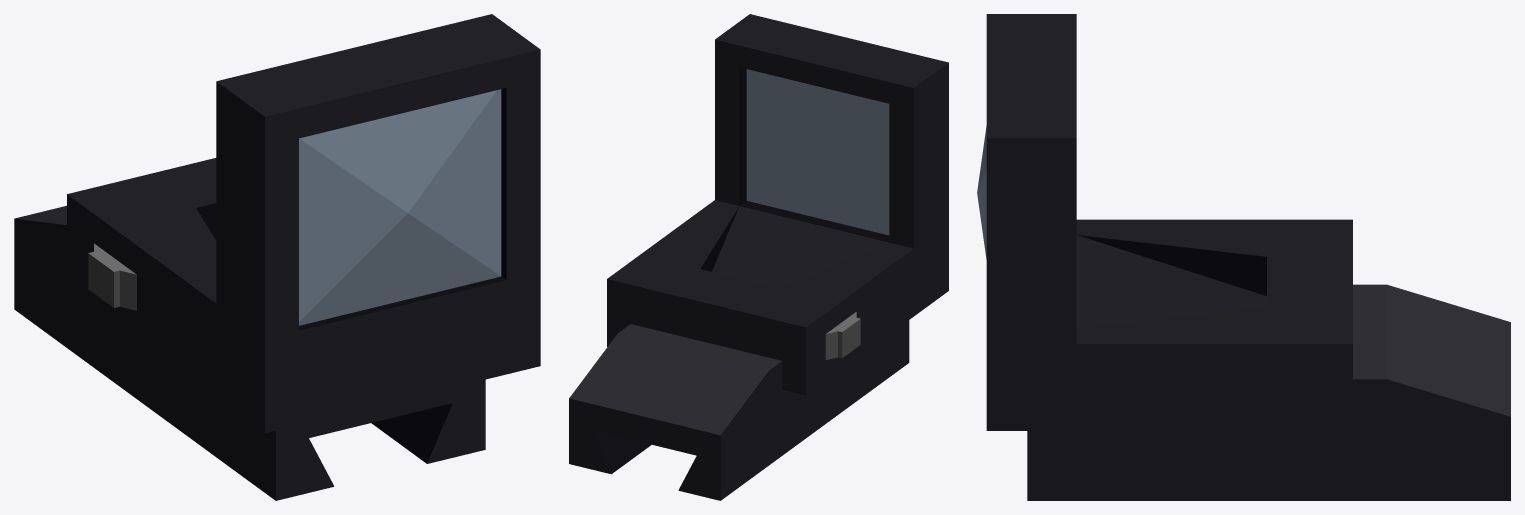
Rendered from MW1_Optic_Rear_Rail_02.fbx.
The picture shows the model from 3 angles, left to right: view 1: azimuth 30°, elevation 25°; view 2: azimuth 150°, elevation 25°; view 3: azimuth 270°, elevation 25°; orthographic projection. The views are drawn at different scales.
Parts seen in each view (by area): view 1: Optic_Rear_Rail_02, Optic_Rear_Rail_02_Lens; view 2: Optic_Rear_Rail_02, Optic_Rear_Rail_02_Lens; view 3: Optic_Rear_Rail_02, Optic_Rear_Rail_02_Lens.
Boxes of the visible parts, box(x1,y1,x2,y2) form: Optic_Rear_Rail_02: box(14, 14, 540, 500); Optic_Rear_Rail_02_Lens: box(299, 89, 501, 325); Optic_Rear_Rail_02: box(569, 14, 948, 500); Optic_Rear_Rail_02_Lens: box(746, 69, 889, 235); Optic_Rear_Rail_02: box(986, 14, 1510, 500); Optic_Rear_Rail_02_Lens: box(977, 126, 986, 259).
Bounding box in the file's own units: 2.78 × 3.73 × 4.79.
